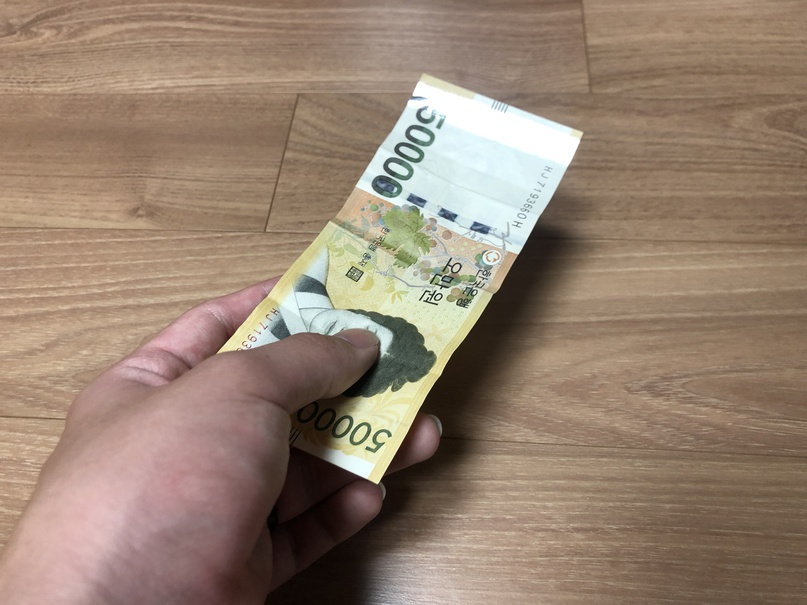50000won: (209, 74, 584, 486)
